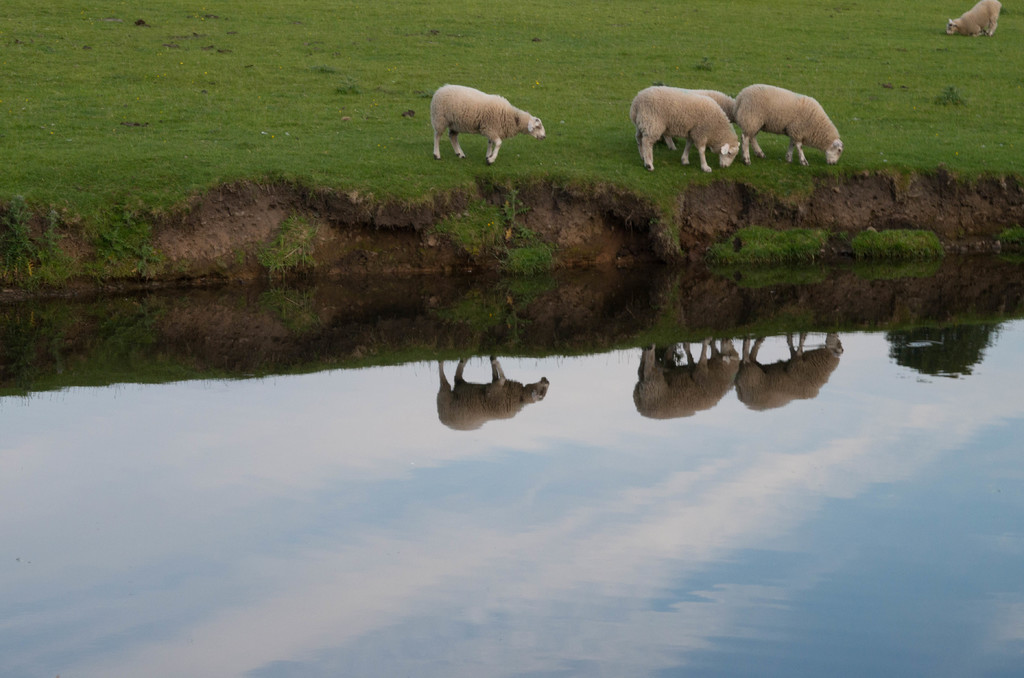sheep: (421, 70, 551, 151), (627, 87, 741, 169)
